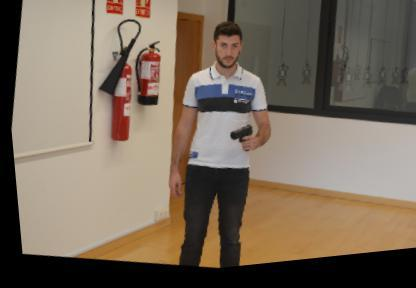pistol: (222, 124, 251, 158)
